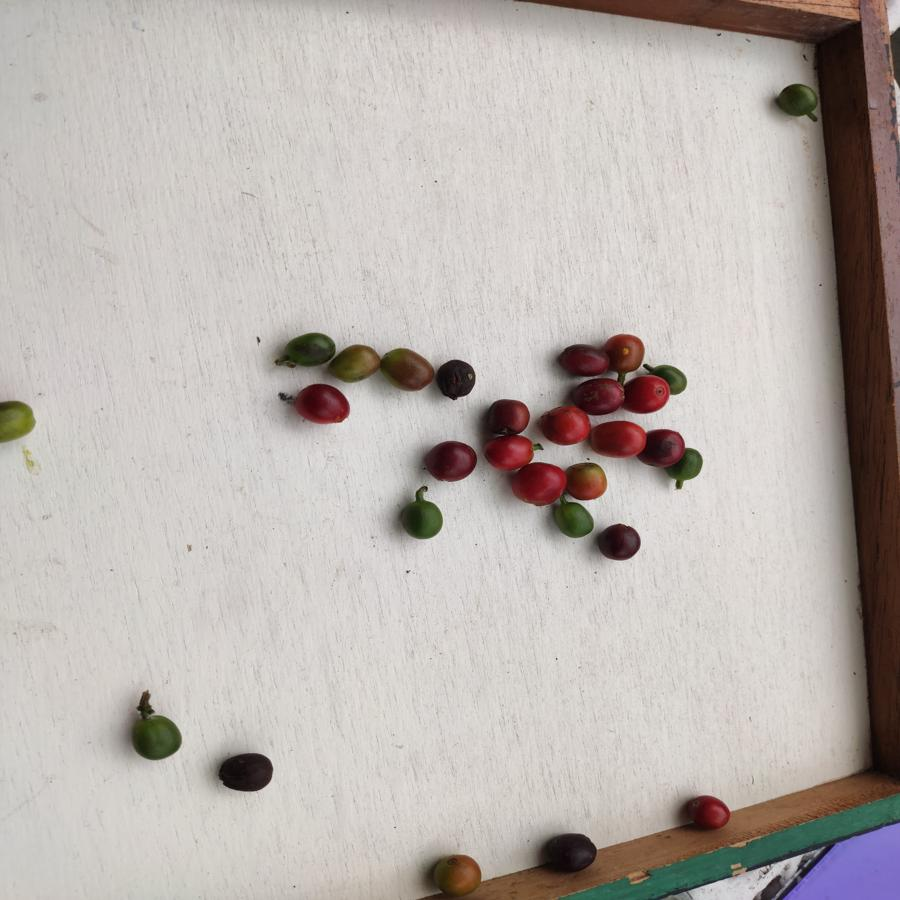Inmaduro: (129, 713, 187, 763), (283, 324, 334, 370), (768, 83, 818, 123), (401, 495, 443, 542), (552, 498, 596, 538), (680, 443, 706, 490), (658, 359, 690, 397)
Maduro: (294, 383, 354, 429), (512, 462, 563, 505), (589, 419, 643, 457), (539, 404, 589, 444), (685, 793, 733, 832), (483, 436, 533, 472), (626, 373, 669, 413)
Pinton: (377, 347, 435, 395), (429, 854, 487, 899), (333, 342, 381, 384), (1, 396, 40, 444), (565, 462, 608, 499), (606, 333, 646, 371)
Sobremaduro: (541, 831, 601, 872), (217, 752, 276, 793), (426, 439, 477, 486), (483, 394, 533, 437), (436, 354, 478, 405), (572, 376, 626, 413), (643, 426, 682, 474), (596, 525, 642, 564), (558, 343, 608, 377)
